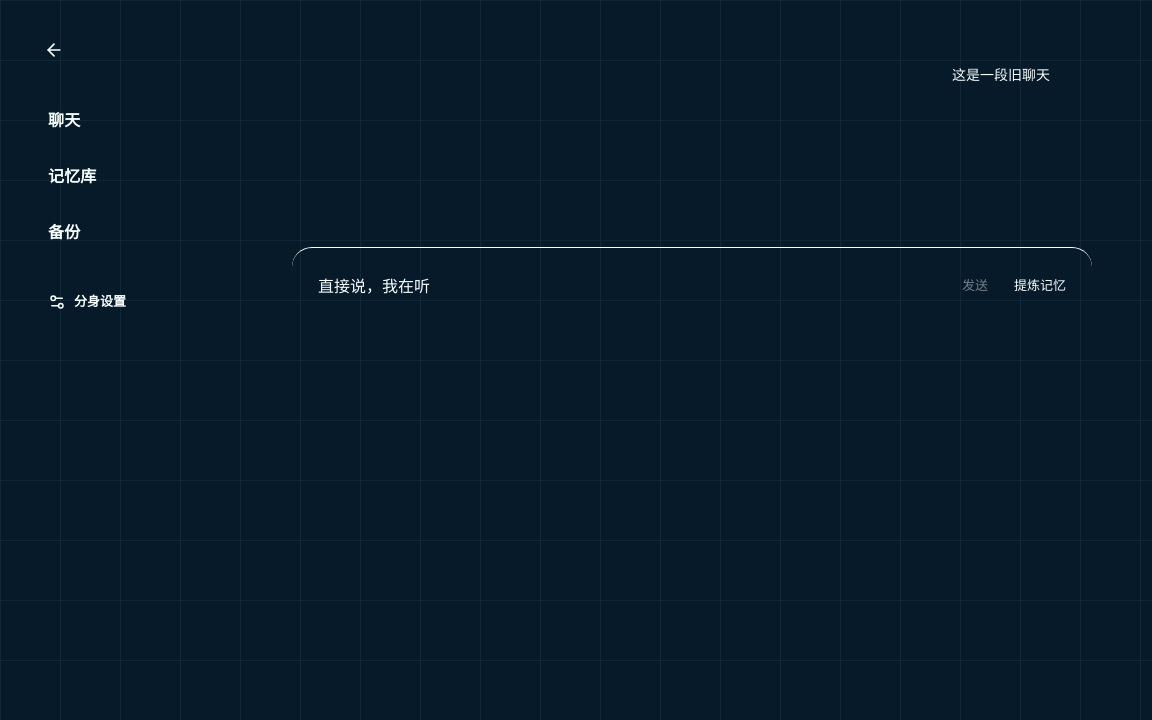
Scenario: AvatarChatPage › restores general chat and sends saved turns with the next question
Check: the text "这是一段旧聊天" is shown, box [952, 66, 1050, 83]
In the field named "对话内容": (627, 286) [308, 264, 946, 308], type "我们刚才聊了什么？"
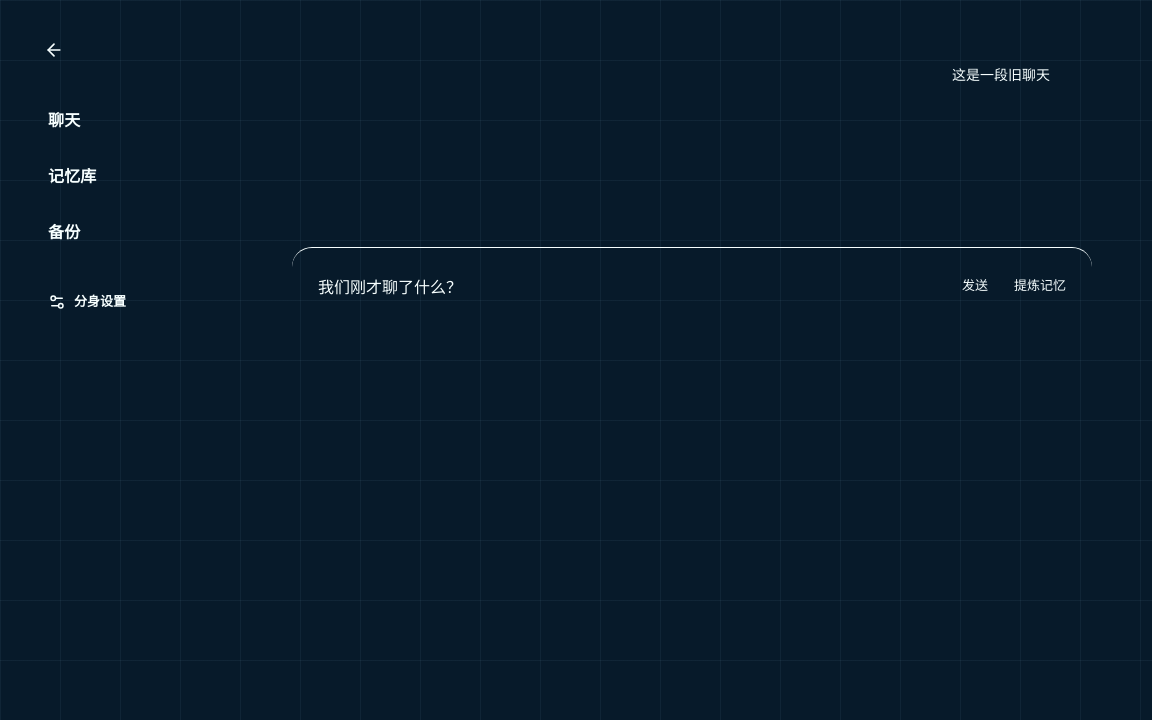
Click the button "发送": (975, 286) [952, 264, 998, 308]
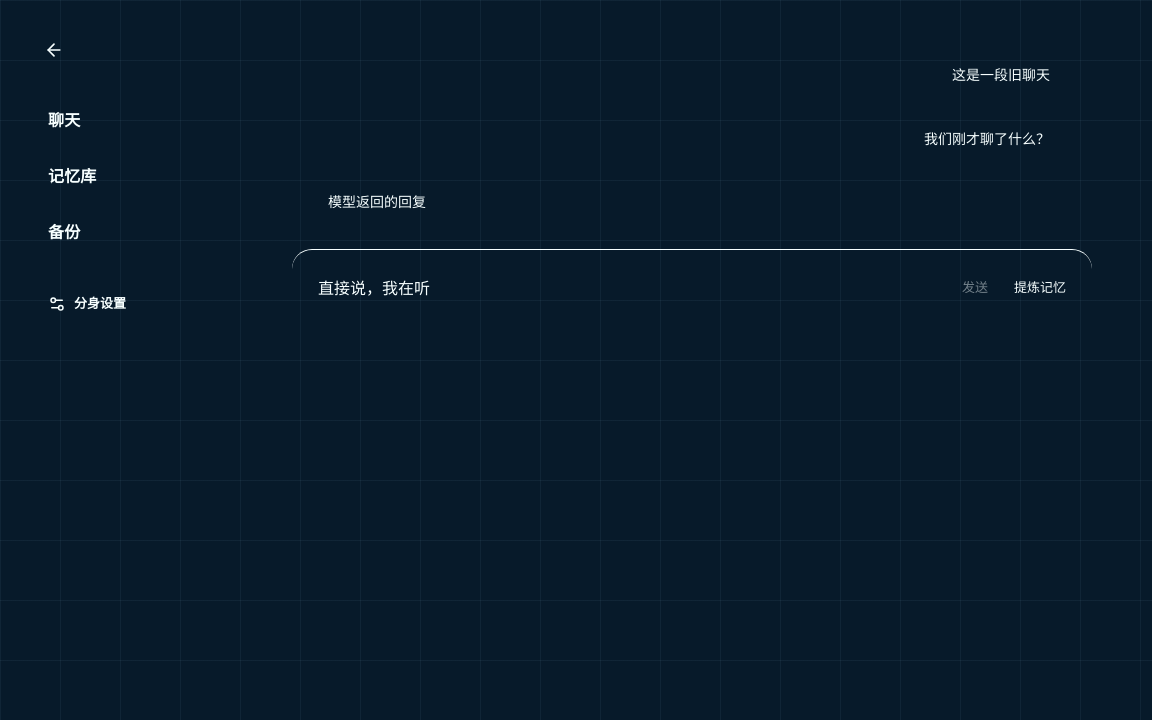
Check: the text "模型返回的回复" is shown, box [328, 193, 426, 210]
